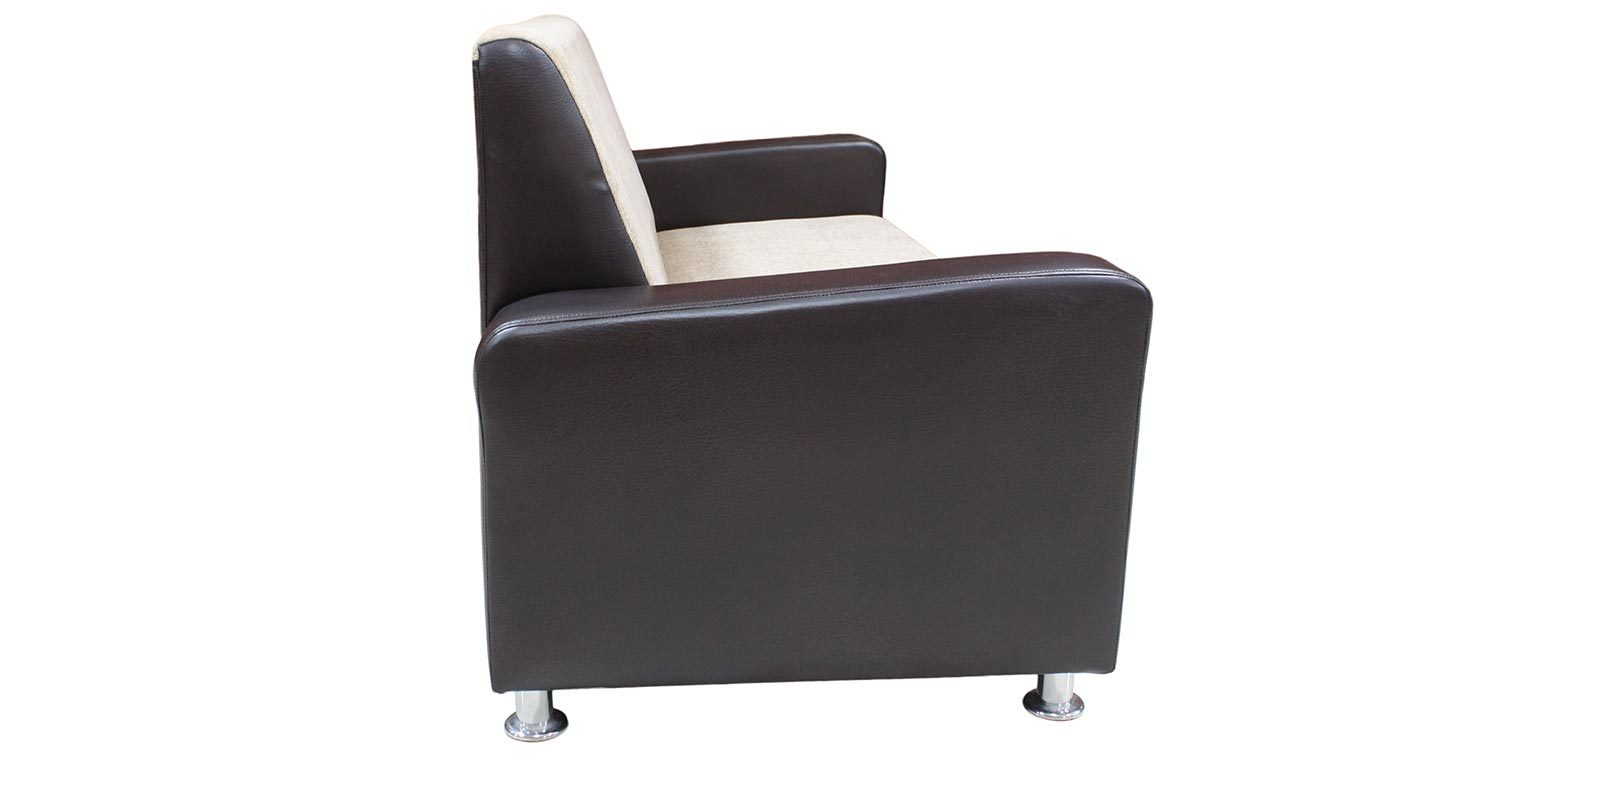New Ciara Three Seater Sofa in Dual Tone by Crystal Furnitech: (469, 11, 1154, 742)
